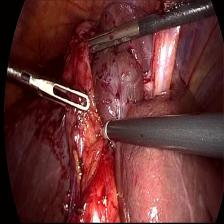Grasper: (25, 65, 90, 119), (85, 17, 141, 65)
Hook: (97, 118, 113, 147)
